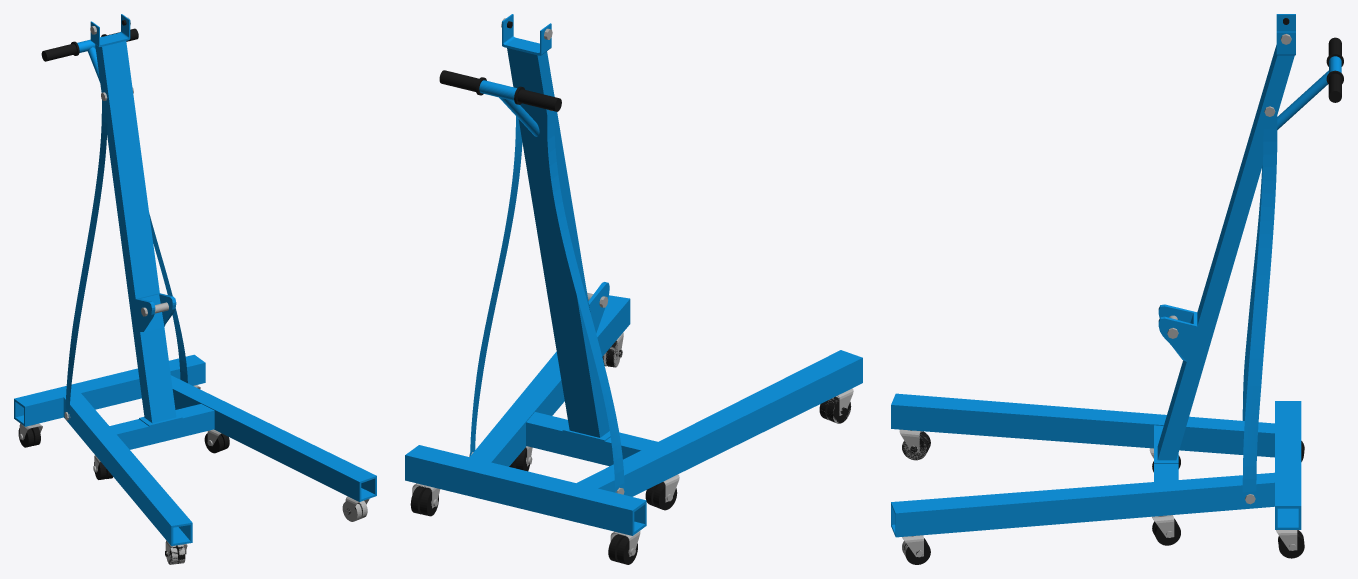
Rendered from gooseMainBody_1.glb.
3 views of the same model, side by side, from view 1: azimuth 30°, elevation 25°; view 2: azimuth 150°, elevation 25°; view 3: azimuth 270°, elevation 25° (orthographic). The views are drawn at different scales.
Visible parts, largest first — view 1: MainBody; view 2: MainBody; view 3: MainBody.
Boxes of the visible parts, x1=… form: MainBody: x1=14, y1=14, x2=376, y2=564; MainBody: x1=405, y1=14, x2=862, y2=564; MainBody: x1=891, y1=14, x2=1343, y2=564.
Size of the model in its own units: 9.7 by 18.34 by 15.49.
